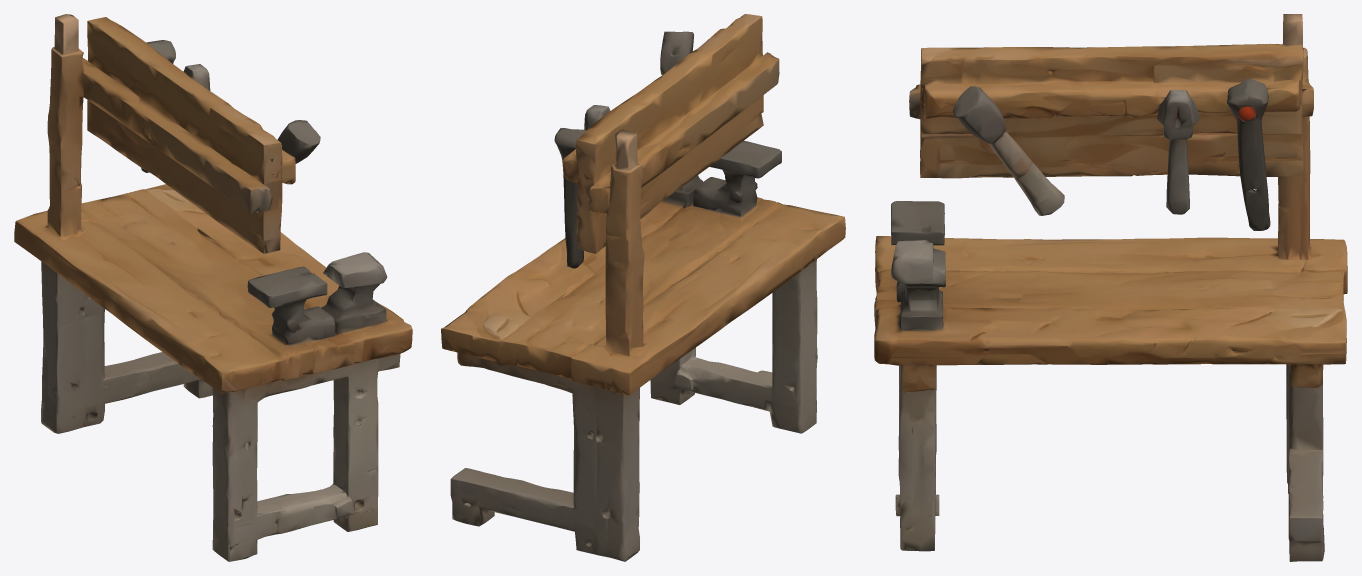
File: workbench.glb
The picture shows the model from 3 angles, left to right: view 1: azimuth 30°, elevation 25°; view 2: azimuth 150°, elevation 25°; view 3: azimuth 270°, elevation 25°; orthographic projection. The views are drawn at different scales.
Parts seen in each view (by area): view 1: tripo_node_48fab6e8-302f-4d47-93cf-840377c02473; view 2: tripo_node_48fab6e8-302f-4d47-93cf-840377c02473; view 3: tripo_node_48fab6e8-302f-4d47-93cf-840377c02473.
Part boxes in pixels (<box>): tripo_node_48fab6e8-302f-4d47-93cf-840377c02473: <box>14,14,412,561</box>; tripo_node_48fab6e8-302f-4d47-93cf-840377c02473: <box>441,14,845,561</box>; tripo_node_48fab6e8-302f-4d47-93cf-840377c02473: <box>874,14,1347,561</box>.
Size of the model in its own units: 0.4897 by 1 by 0.9324.
1 material, 1 textured.
